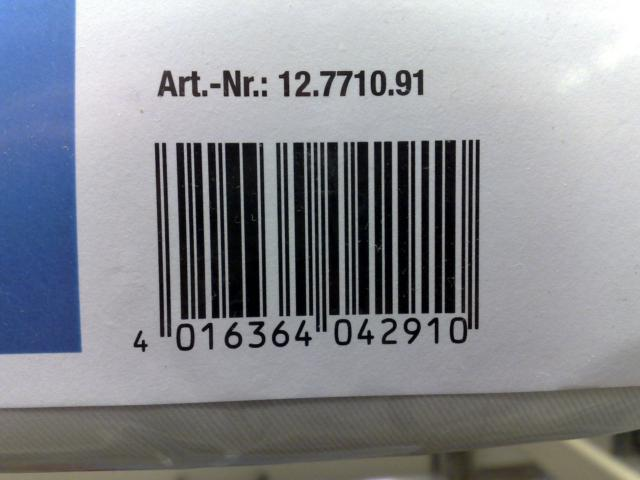Barcode: (112, 121, 511, 368)
